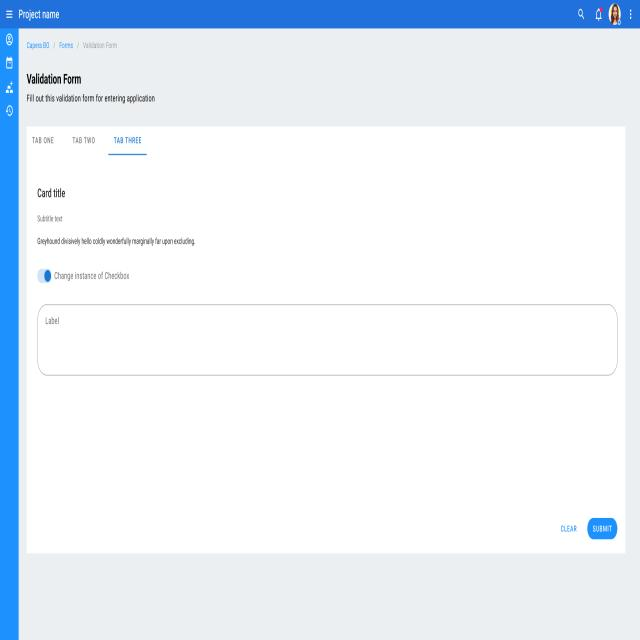QLabel: (36, 236, 196, 247), (26, 93, 154, 104), (25, 72, 83, 85), (17, 8, 61, 21), (34, 187, 68, 200), (112, 135, 143, 146), (36, 213, 63, 224), (71, 135, 95, 145), (31, 136, 55, 145), (591, 524, 613, 533), (560, 524, 578, 533)
QMenu: (0, 29, 18, 640)
VAppBar: (0, 0, 640, 28)
VBadge: (608, 3, 622, 25), (595, 7, 603, 22)
VBreadcrumbs: (25, 40, 118, 51)
VBtn: (587, 516, 619, 540), (554, 516, 584, 540)
VCard: (26, 125, 626, 555)
VIcon: (578, 8, 586, 22), (6, 8, 13, 20), (629, 8, 632, 22)
VSwitch: (36, 266, 130, 285)
VTab: (107, 131, 148, 154), (29, 132, 65, 154), (68, 132, 101, 154)
VTabs: (27, 128, 624, 160)
VTextarea: (36, 302, 618, 378)
